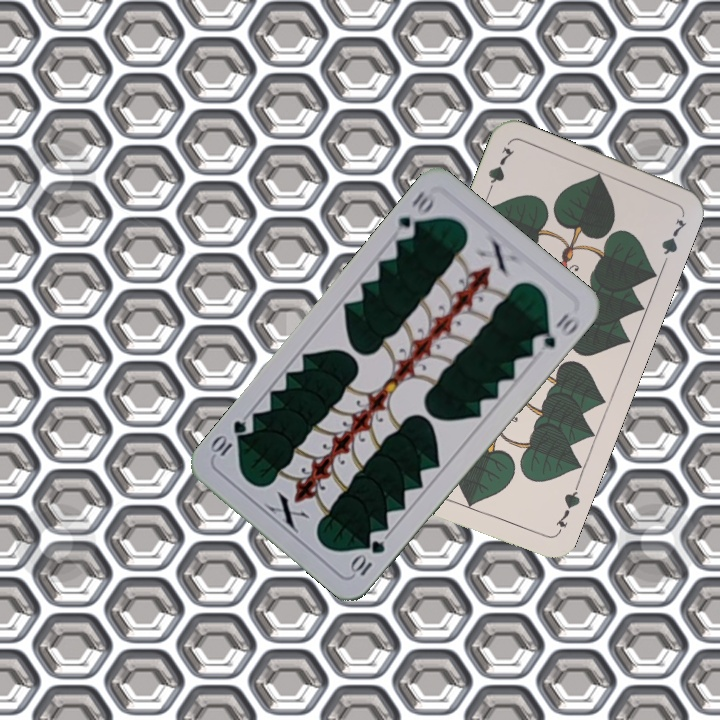G10: (390, 187, 437, 243), (347, 536, 388, 580)
G7: (482, 143, 517, 199), (551, 481, 583, 537)
